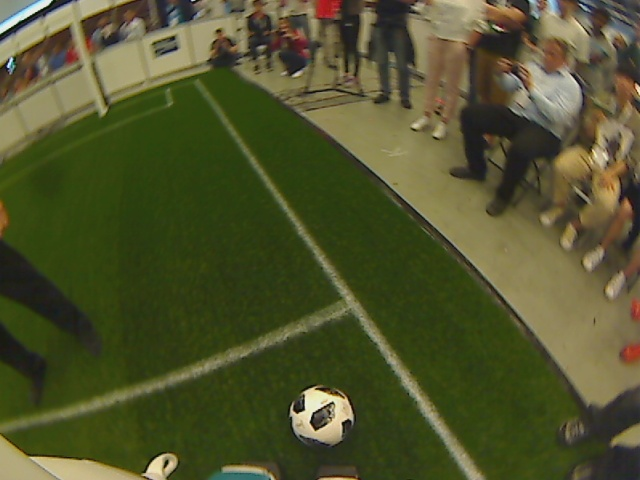ball: (287, 382, 356, 450)
